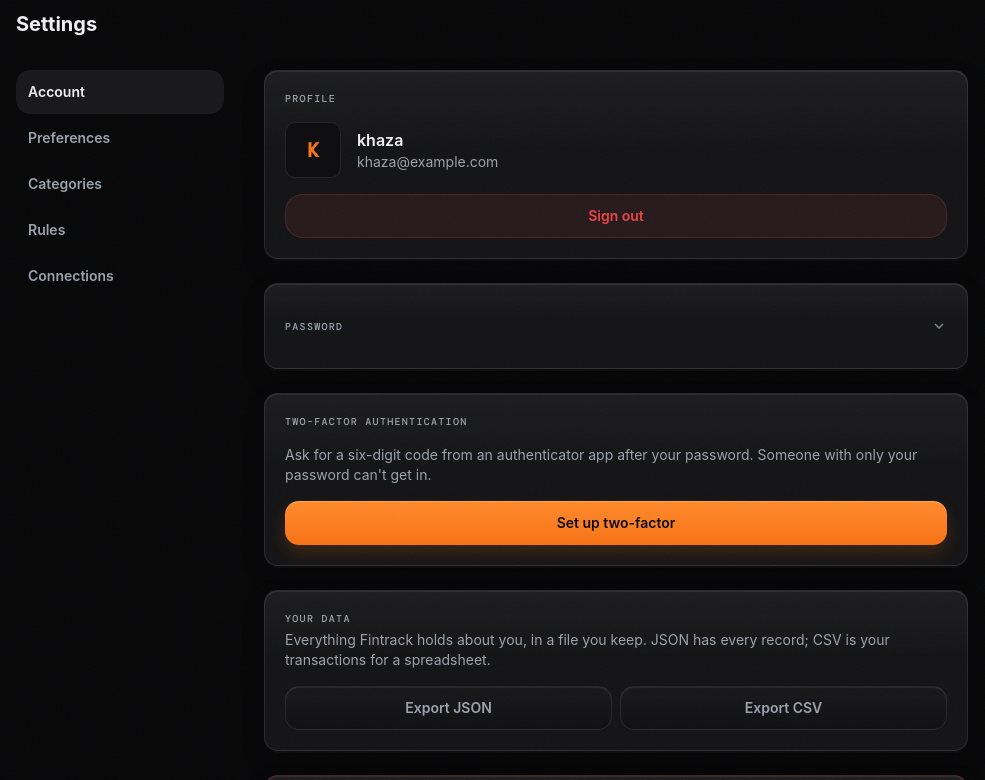
Settings push toggle › says so when the subscription cannot be read
Click the button "Preferences": point(120, 138) [16,116,224,160]
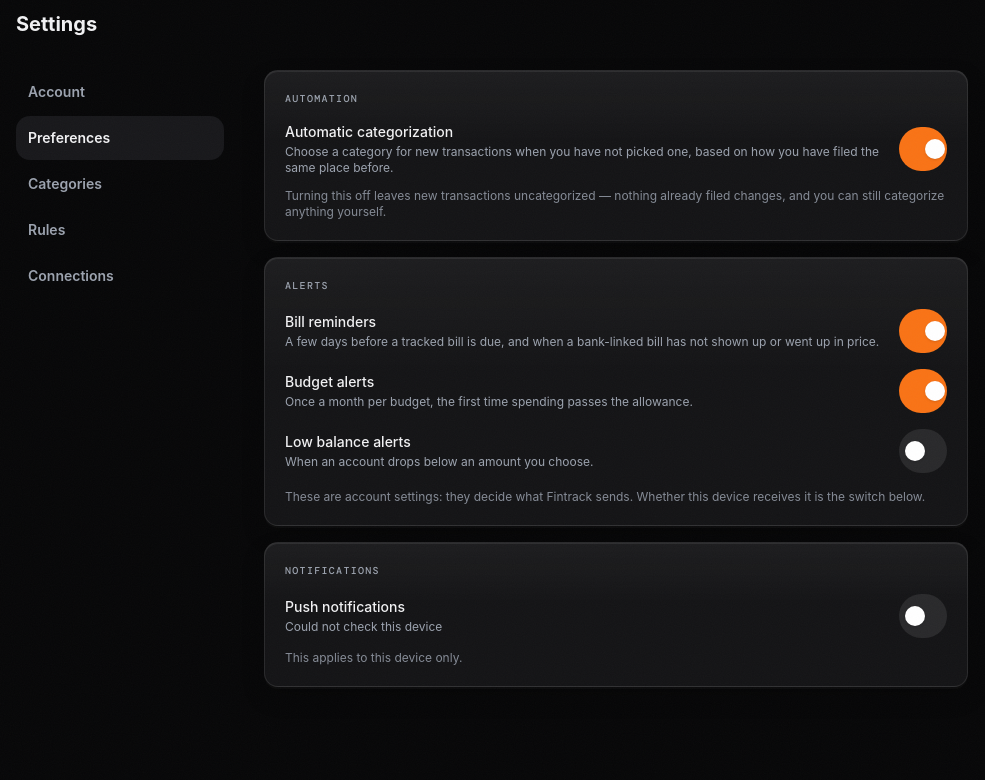
Now the text "Could not check this device" is shown, box [285,619,442,635]
